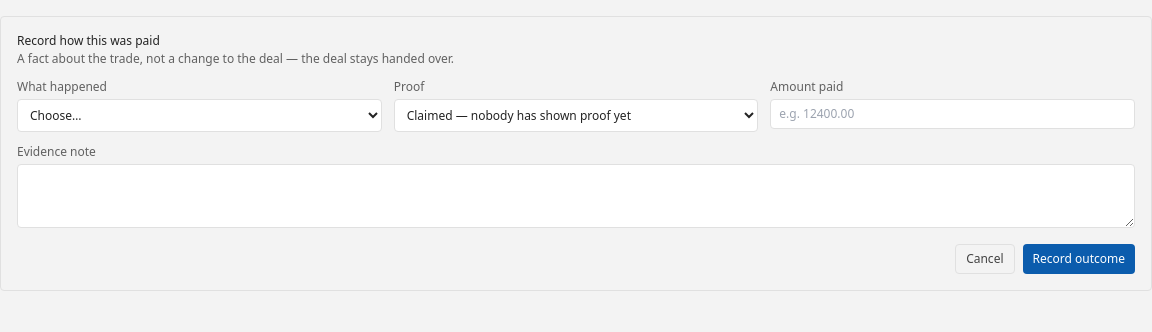
Test: asks what was seen before accepting a proven outcome
Select "Paid" in the dropdown labelled "What happened" at (199, 116), box [17, 99, 382, 132]
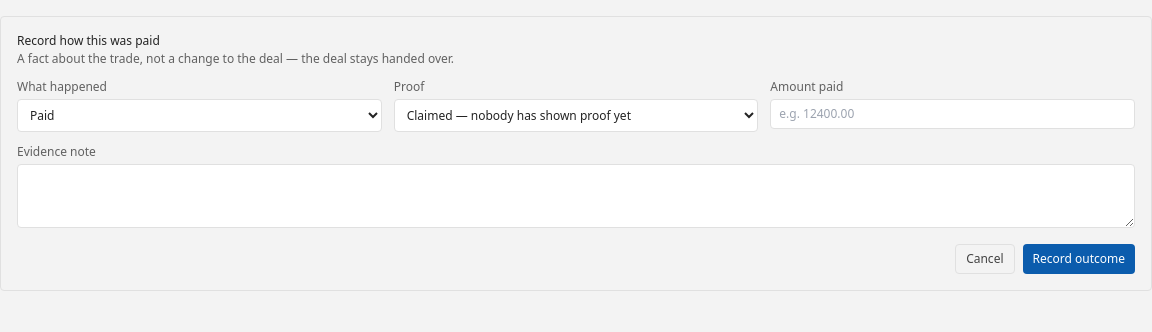
Select "Proven — we have seen evidence" in the dropdown labelled "Proof" at (576, 116), box [394, 99, 758, 132]
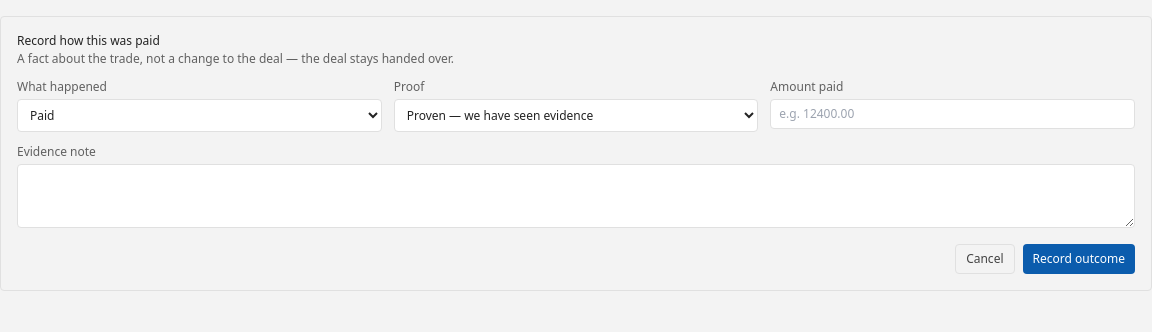
Click the button "Record outcome" at (1079, 259), box [1022, 244, 1135, 274]
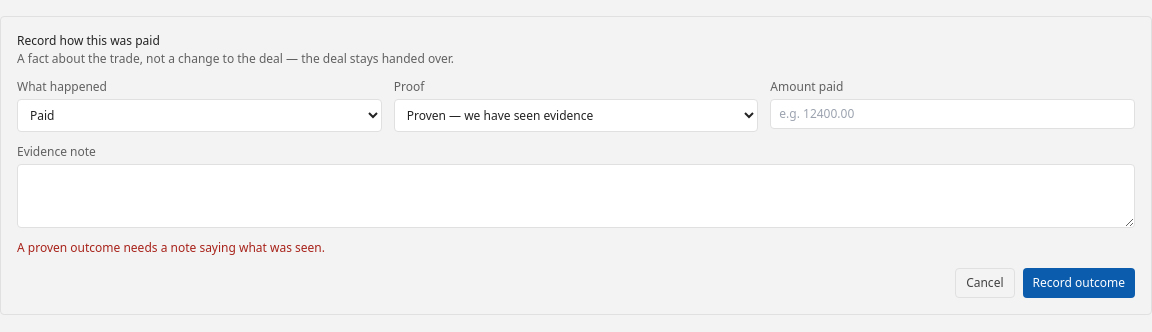
Expected: the message shows "needs a note", [17, 239, 325, 256]
